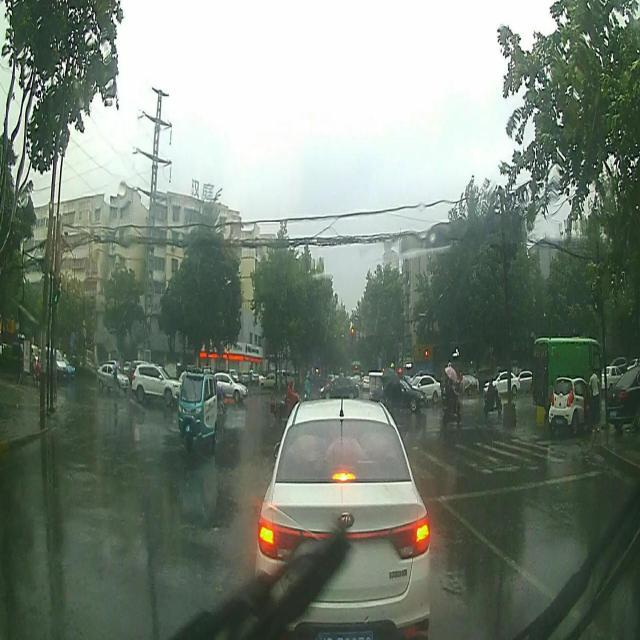car: (254, 398, 430, 634), (549, 377, 597, 435), (132, 361, 179, 404), (214, 372, 248, 404)
